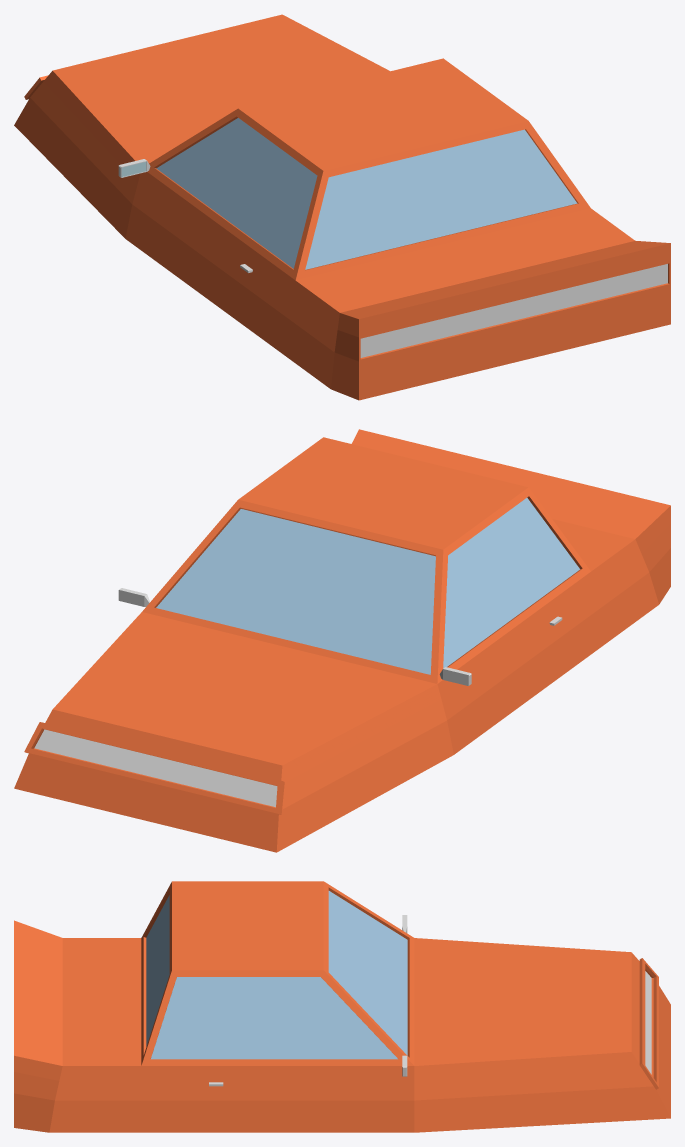
The model's file is HoverCar.fbx.
3 renders of one model, top to bottom at view 1: azimuth 30°, elevation 25°; view 2: azimuth 150°, elevation 25°; view 3: azimuth 270°, elevation 25°, orthographic. The views are drawn at different scales.
Visible parts, largest first — view 1: Cube; view 2: Cube, Cube.001; view 3: Cube.
Boxes of the visible parts, x1,y1,x2,y2 form: Cube: (14,14,670,400); Cube: (14,429,670,852); Cube.001: (118,588,471,685); Cube: (14,881,670,1132).
Bounding box in the file's own units: 535 × 264 × 975.
